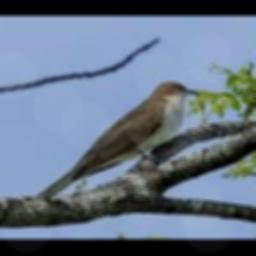Cuckoo: (34, 81, 200, 197)
